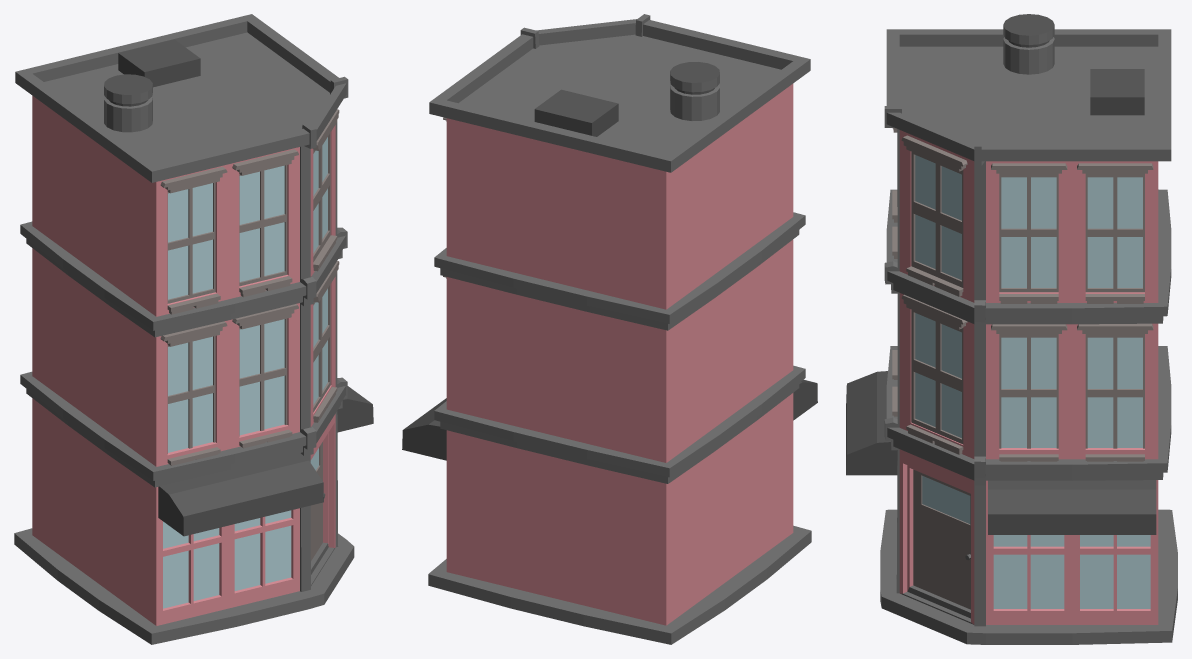
File: building3_city.fbx
3 views of the same model, side by side, from view 1: azimuth 30°, elevation 25°; view 2: azimuth 150°, elevation 25°; view 3: azimuth 270°, elevation 25° (orthographic). The views are drawn at different scales.
Visible parts, largest first — view 1: Cylinder; view 2: Cylinder; view 3: Cylinder.
Boxes of the visible parts, x1,y1,x2,y2 form: Cylinder: (14,14,373,644); Cylinder: (402,14,817,644); Cylinder: (846,14,1177,644).
Size of the model in its own units: 76.9 by 133 by 76.9.
